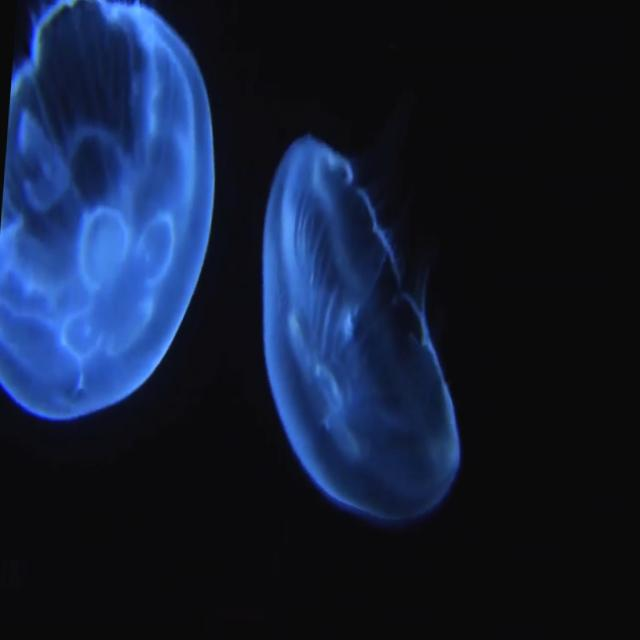Moon-jellyfish: (0, 0, 217, 424), (260, 132, 465, 530)
